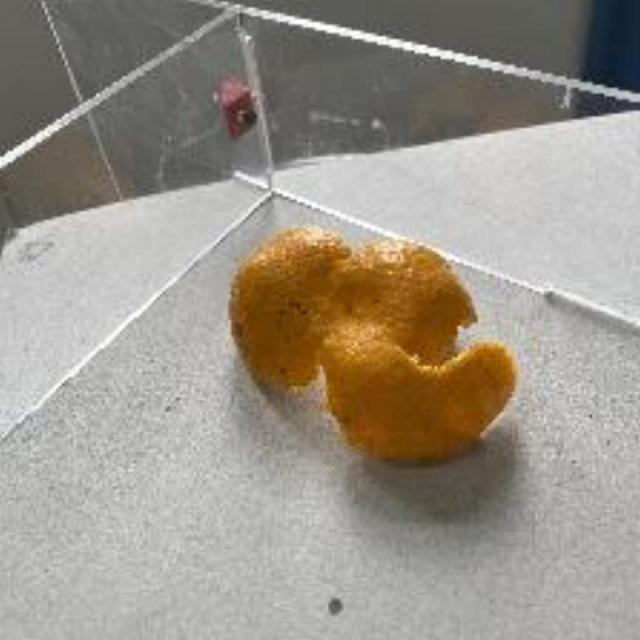orange-peel: (227, 224, 518, 464)
